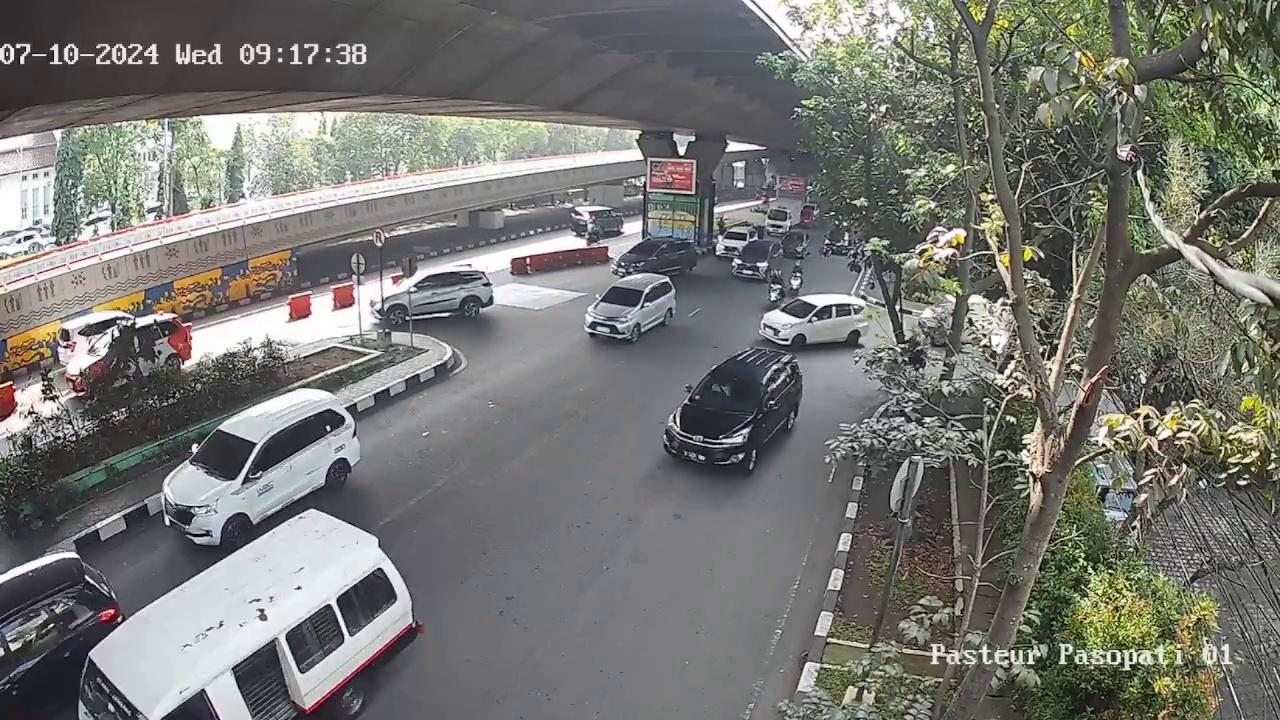pakai: (713, 380, 732, 396)
windshield: (187, 427, 256, 477), (696, 370, 764, 407), (600, 285, 648, 310)
